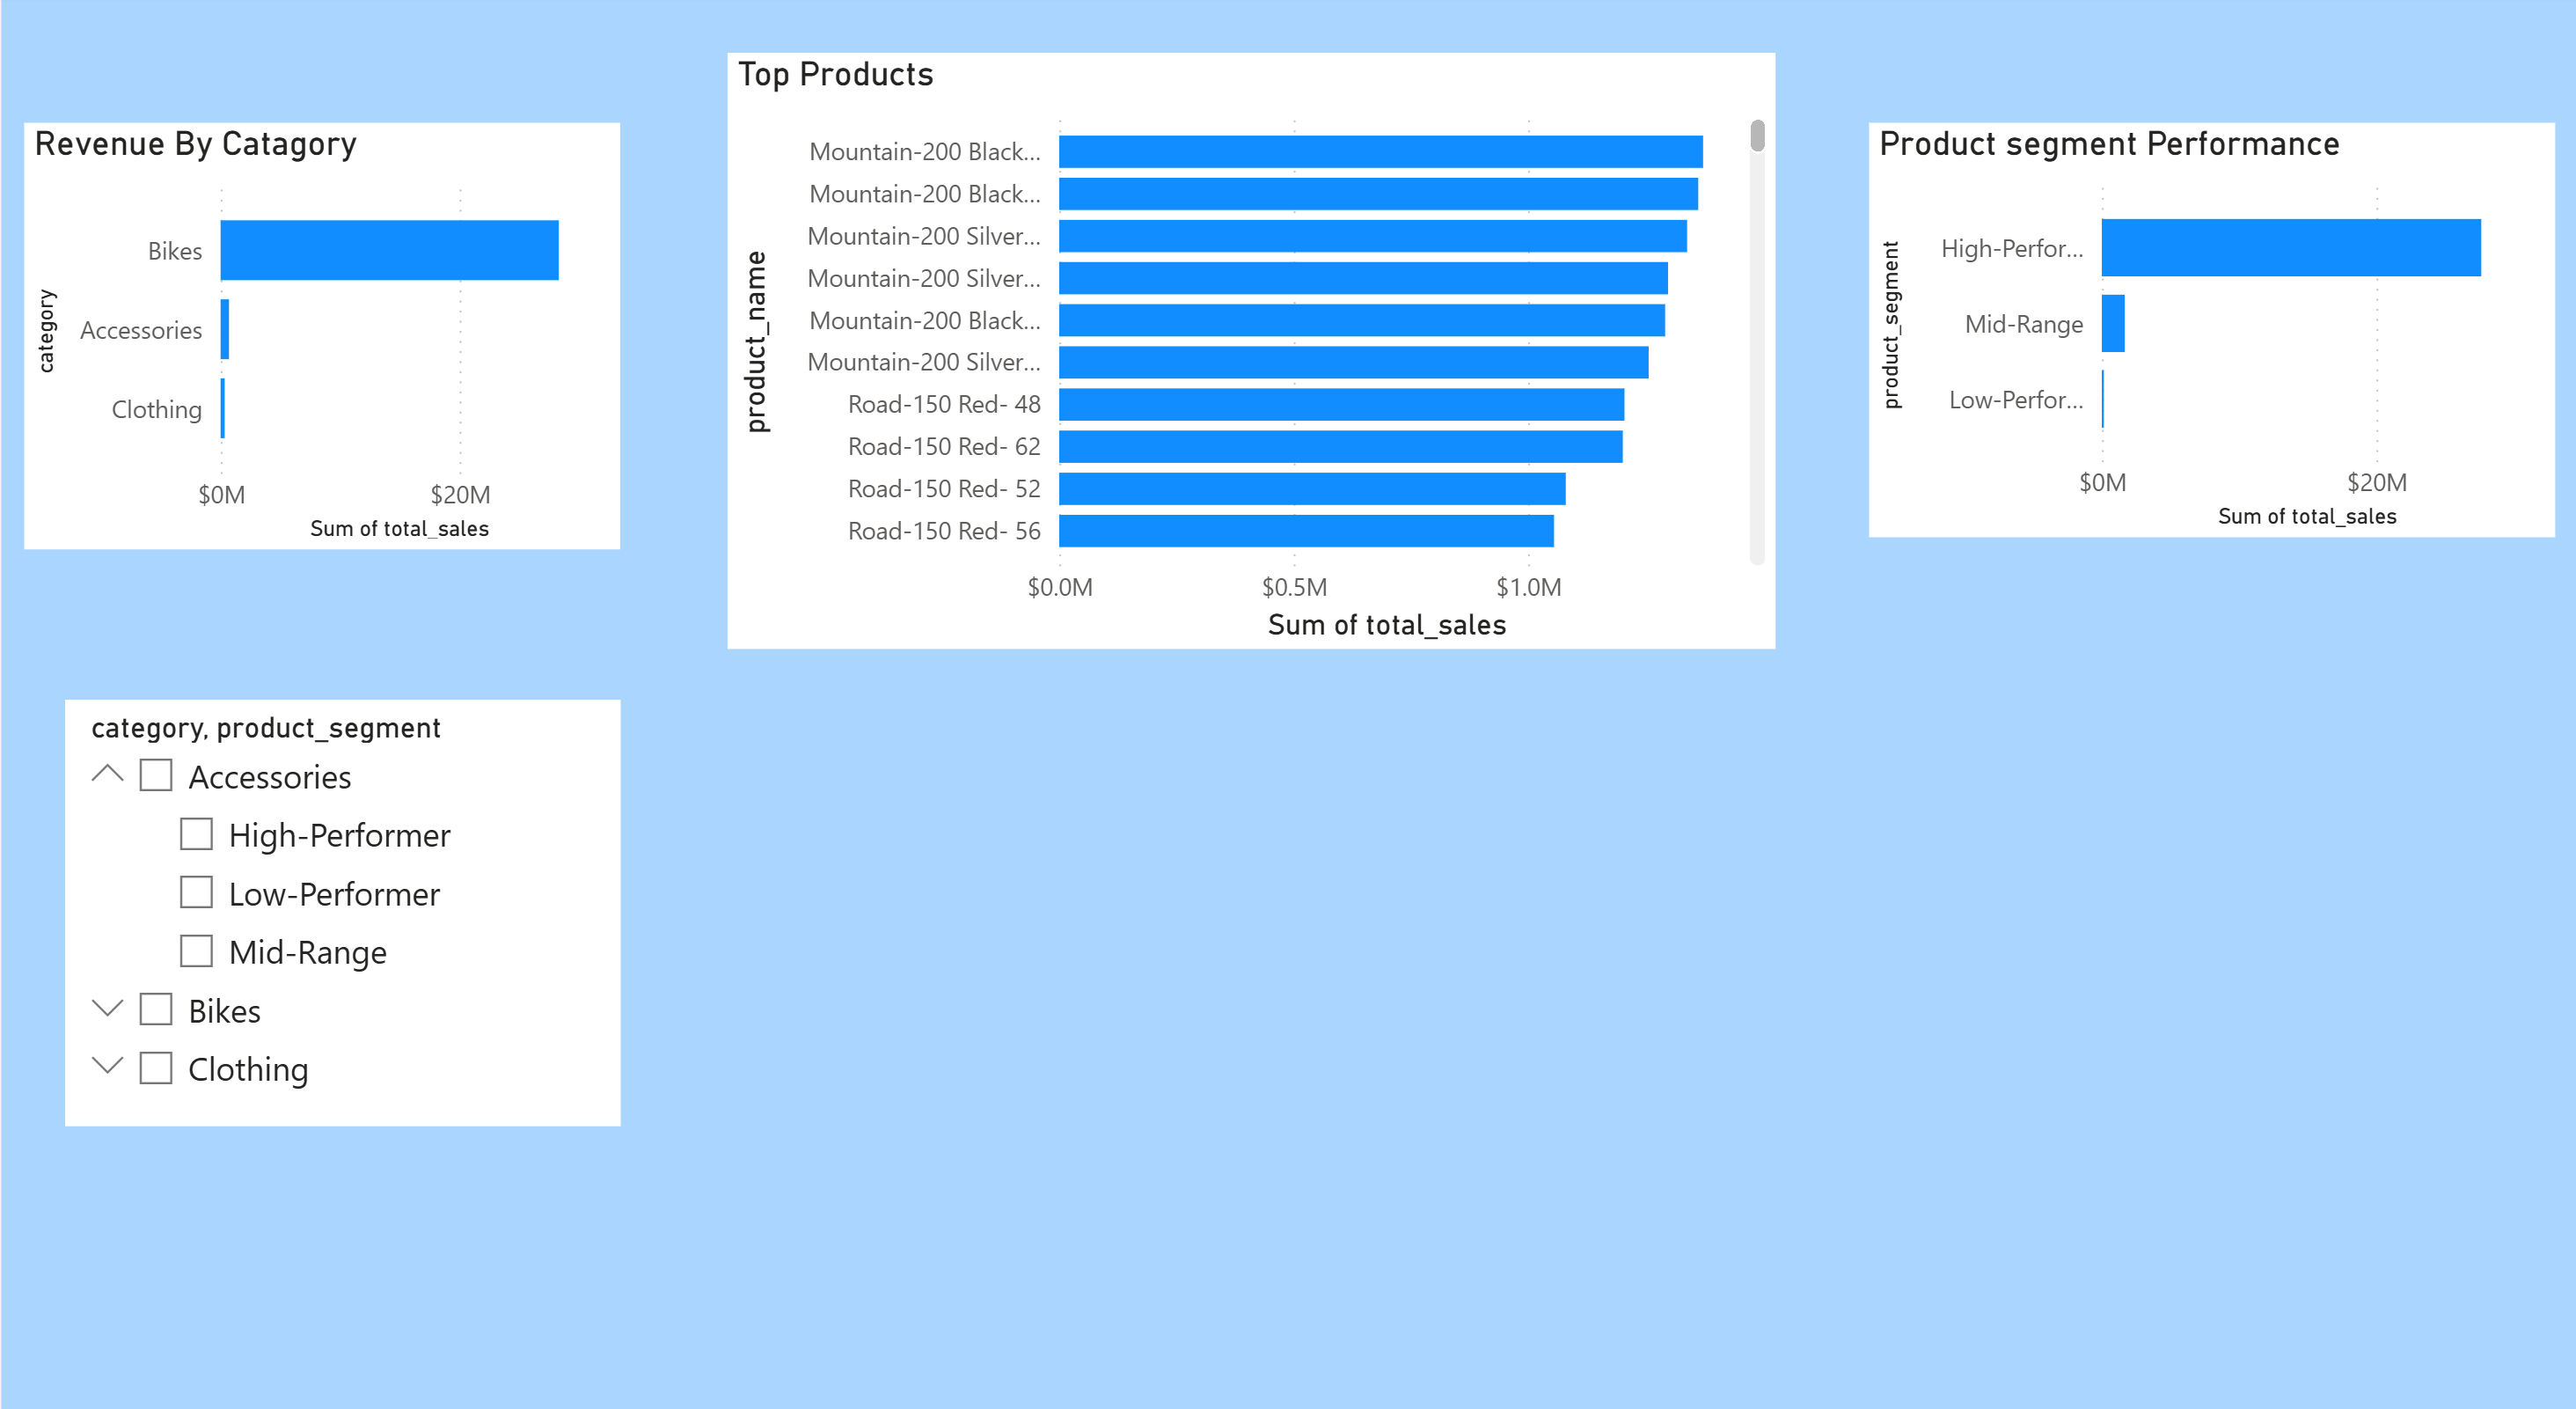

The page's visual inventory and layout, read from the dashboard file:
{"tool":"powerbi","page":{"name":"Product_report","canvas":[1280,720],"ordinal":1},"visuals":[{"type":"barChart","title":"Revenue By Catagory","fields":{"Category":["gold report products.category"],"Y":["Sum(gold report products.total_sales)"]},"box":[11.1,63.4,295.6,211.2],"z":0},{"type":"barChart","title":"Top Products","fields":{"Category":["gold report products.product_name"],"Y":["Sum(gold report products.total_sales)"]},"box":[359.7,28.8,519.2,295.6],"z":1},{"type":"slicer","fields":{"Values":["gold report products.category","gold report products.product_segment"]},"box":[31.4,349.2,275.3,211.2],"z":2},{"type":"clusteredBarChart","title":"Product segment Performance","fields":{"Category":["gold report products.product_segment"],"Y":["Sum(gold report products.total_sales)"]},"box":[925.3,63.4,340.1,205.3],"z":3}]}

Visuals, with their boxes in screenshot pixels (x1, y1, x2, y2), scaled from the page's 1280x720 canvas onto the 2576x1409 screenshot:
"Revenue By Catagory" barChart: region(22, 124, 618, 538)
"Top Products" barChart: region(724, 56, 1768, 635)
slicer - gold report products.category x gold report products.product_segment: region(63, 683, 618, 1097)
"Product segment Performance" clusteredBarChart: region(1862, 124, 2547, 525)
